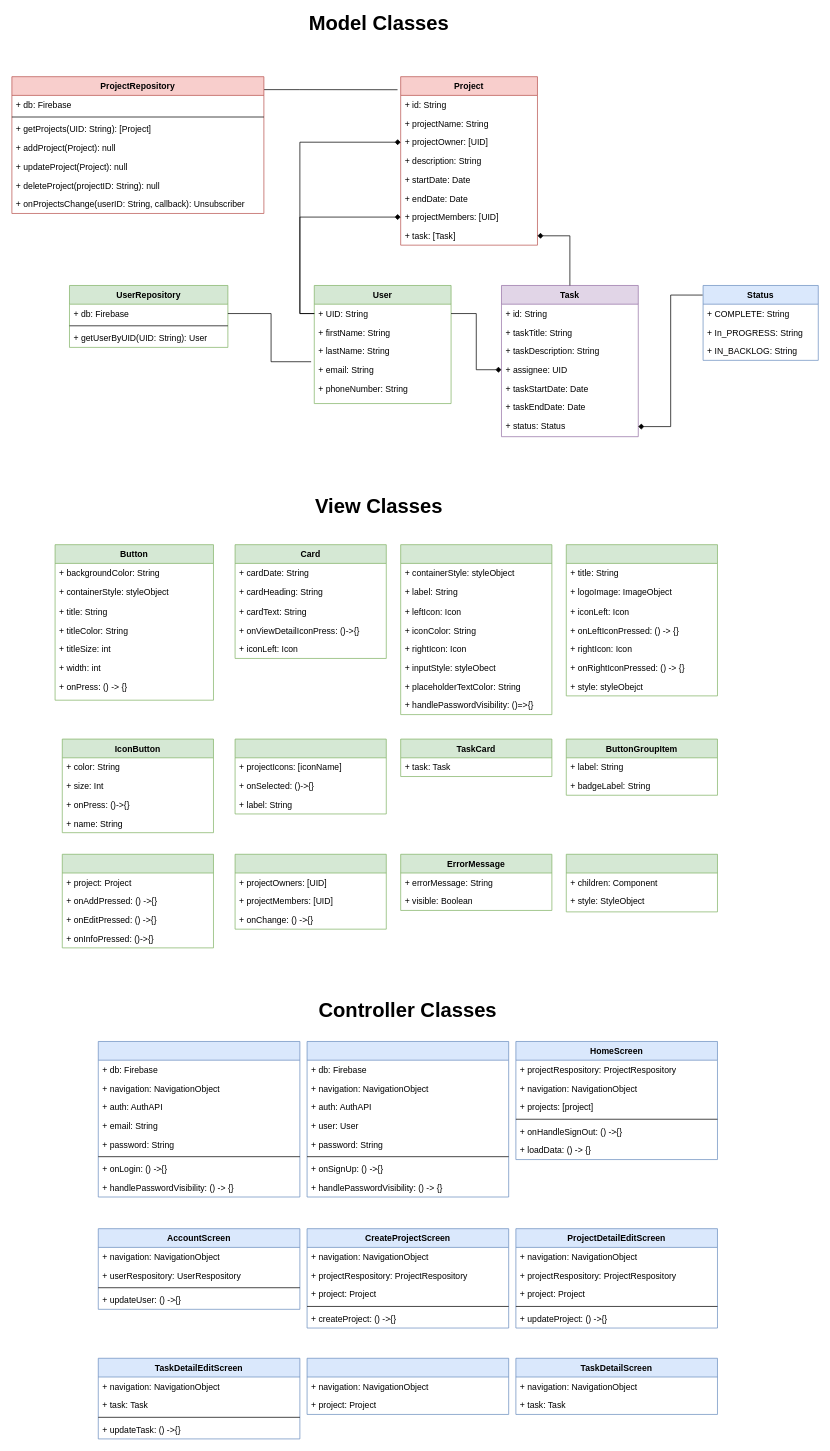
Some shapes in this 830 by 1451 pixel diagram are drawn without their labels. Here are the shapes that lost their labels. From the top down, the box of each, then its label:
(400, 544, 552, 715): InputField
(566, 544, 717, 696): TitlerBar
(234, 738, 386, 814): IconSelection
(62, 854, 213, 948): ProjectTitle
(234, 854, 386, 929): ProjectMembersField
(566, 854, 717, 912): Screen
(98, 1041, 300, 1197): LoginScreen
(306, 1041, 509, 1197): SignUpScreen
(306, 1358, 509, 1414): ProjectDetailScreen
